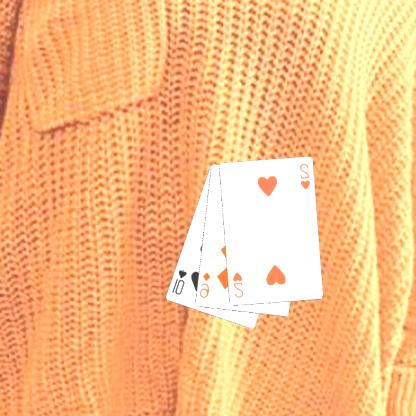10S: (171, 266, 190, 297)
2H: (298, 160, 313, 192), (232, 269, 246, 300)
9D: (198, 269, 214, 300)
